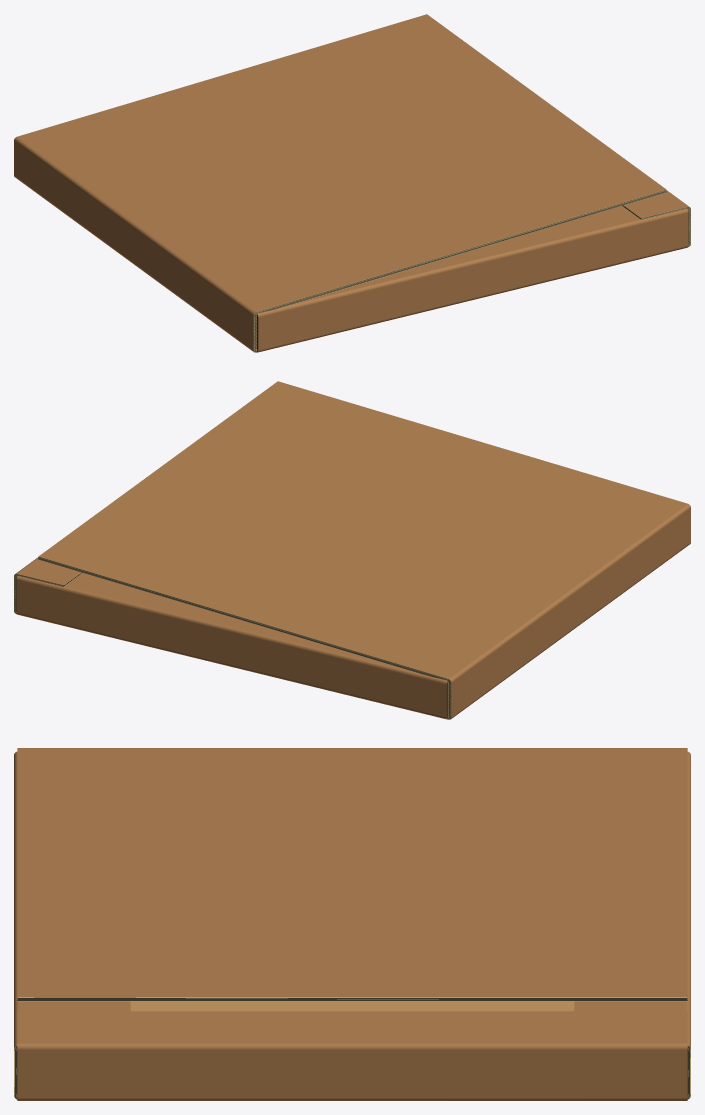
The model's file is 4D ENVIO PANELES.gltf.
The picture shows the model from 3 angles, top to bottom: view 1: azimuth 30°, elevation 25°; view 2: azimuth 150°, elevation 25°; view 3: azimuth 270°, elevation 25°; orthographic projection. The views are drawn at different scales.
Visible parts, largest first — view 1: ENVIO_PANELES_ARD-node; view 2: ENVIO_PANELES_ARD-node; view 3: ENVIO_PANELES_ARD-node.
Part boxes in pixels (box(x1,y1,x2,y2)): ENVIO_PANELES_ARD-node: box(14, 14, 690, 352); ENVIO_PANELES_ARD-node: box(14, 381, 690, 719); ENVIO_PANELES_ARD-node: box(14, 748, 690, 1100).
Size of the model in its own units: 1.18 by 0.1629 by 1.13.
Materials: 3 (1 with a texture image).
